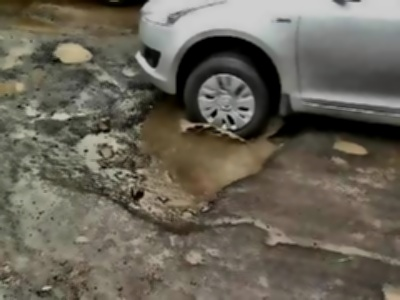pothole: (92, 77, 289, 231), (49, 39, 94, 63), (330, 137, 371, 157), (0, 73, 29, 100)
